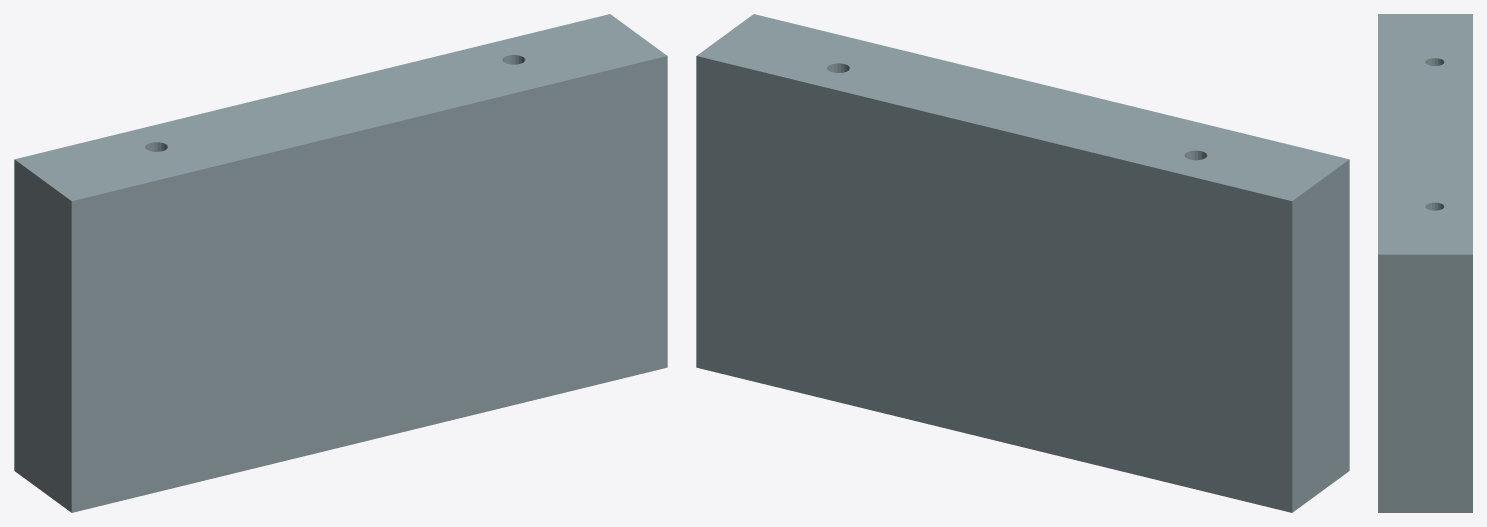
The model's file is Test Rig v2.obj.
3 renders of one model, left to right at view 1: azimuth 30°, elevation 25°; view 2: azimuth 150°, elevation 25°; view 3: azimuth 270°, elevation 25°, orthographic. The views are drawn at different scales.
Visible parts, largest first — view 1: Test_Rig_v2; view 2: Test_Rig_v2; view 3: Test_Rig_v2.
Part boxes in pixels (x1,y1,x2,y2): Test_Rig_v2: (14,14,667,512); Test_Rig_v2: (696,14,1349,512); Test_Rig_v2: (1378,14,1472,512).
Bounding box in the file's own units: 300 × 150 × 50.
